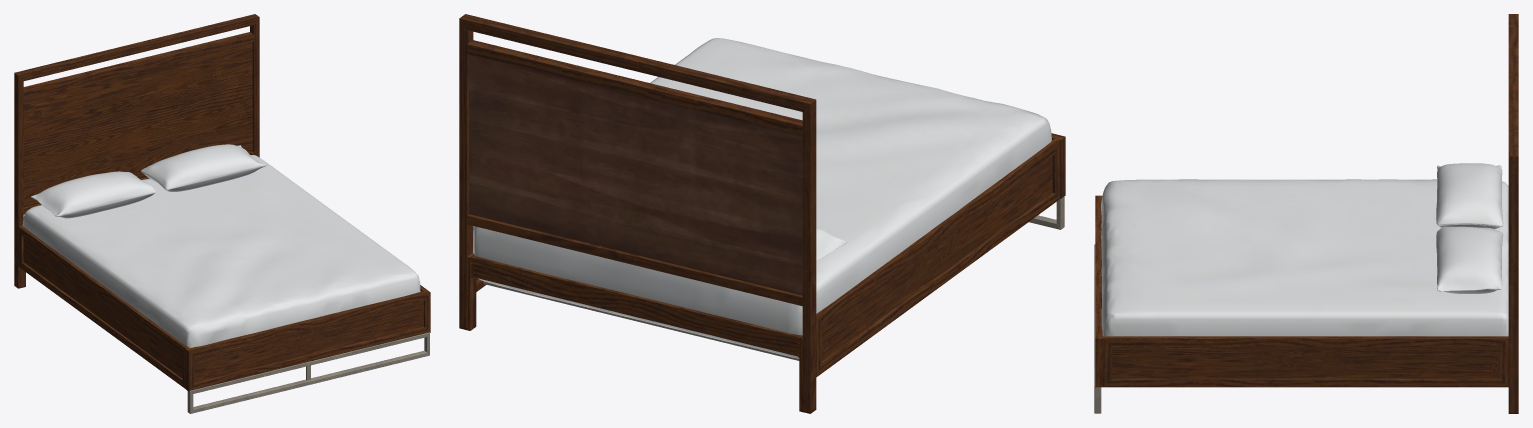
The model's file is abo-B071W2SCTJ.glb.
3 views of the same model, side by side, from view 1: azimuth 30°, elevation 25°; view 2: azimuth 150°, elevation 25°; view 3: azimuth 270°, elevation 25° (orthographic). The views are drawn at different scales.
Bounding box in the file's own units: 1.77 × 1.49 × 2.22.
1 material, 1 textured.
